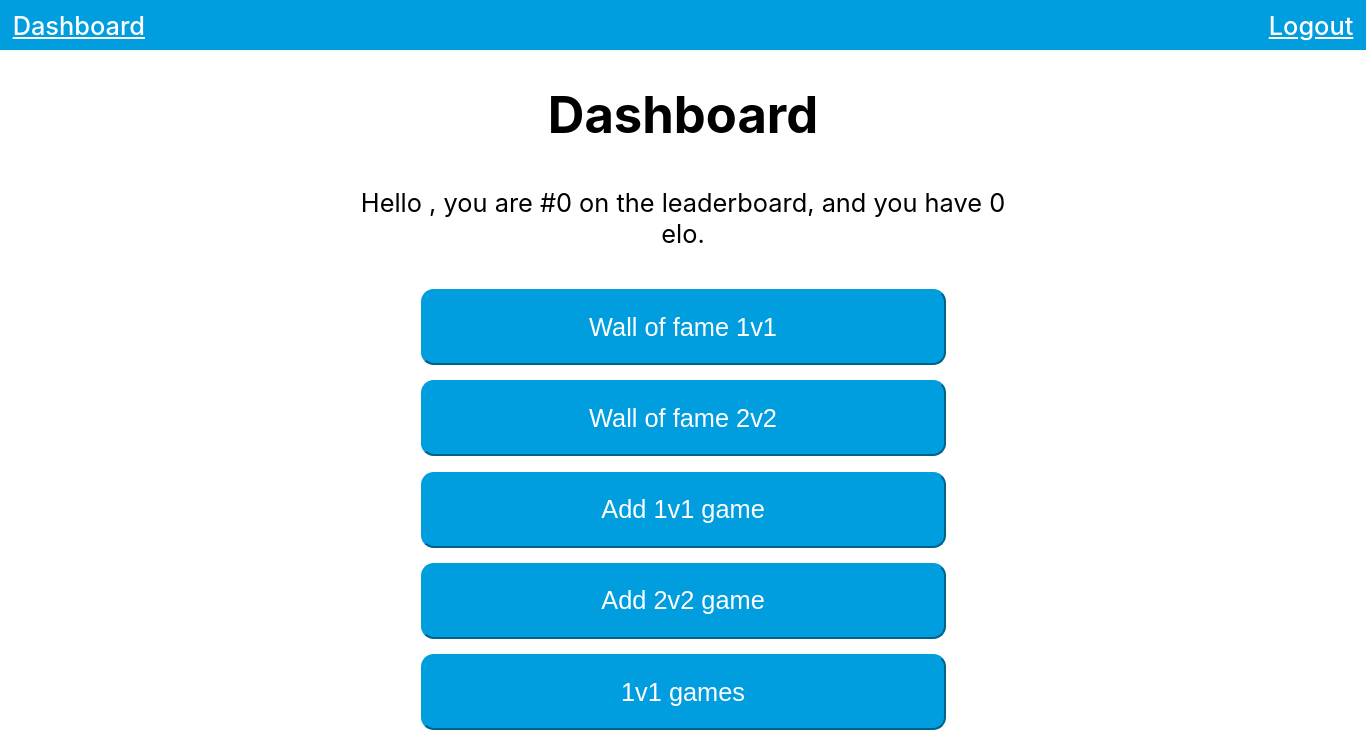
Scenario: renders the last games
The width and height of the screenshot is (1366, 739).
Click the button "1v1 games".
click(683, 692)  # box [420, 654, 946, 730]
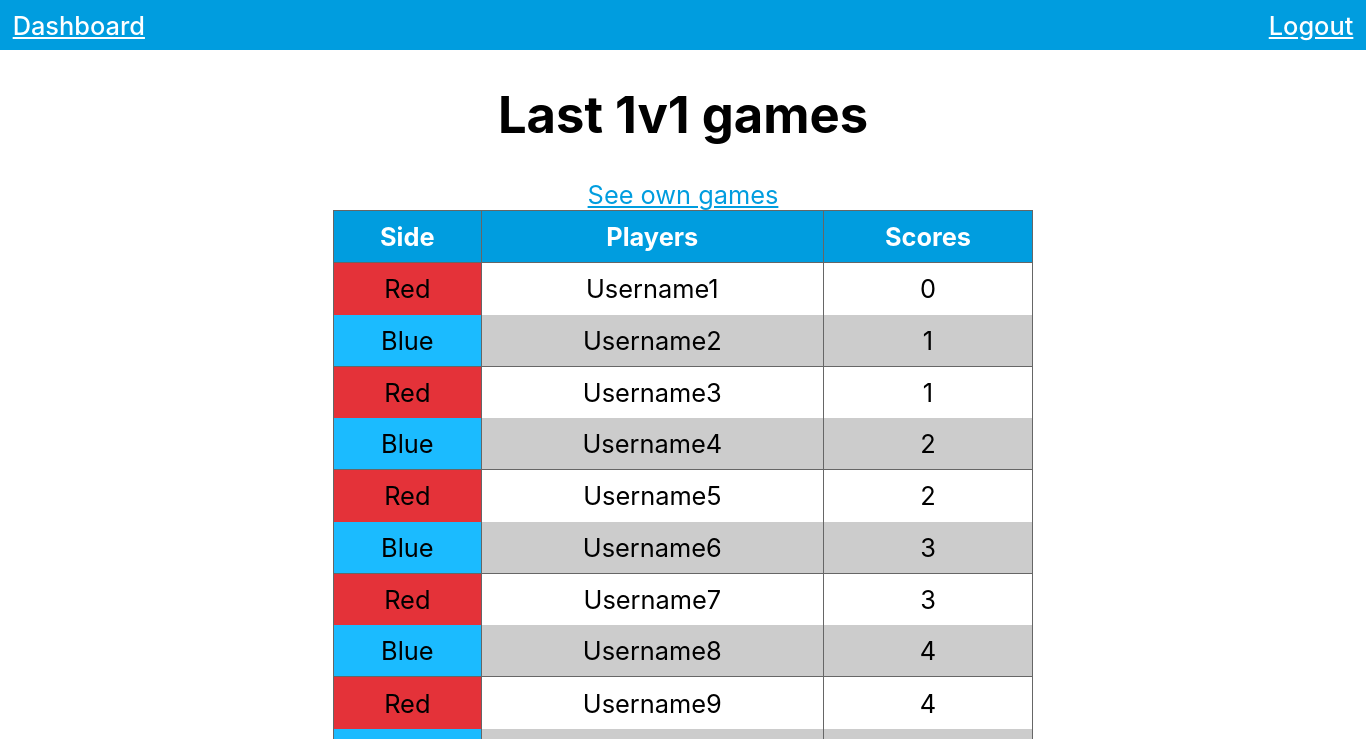
Expected: the heading "Last 1v1 games" is shown, [333, 84, 1033, 145]
